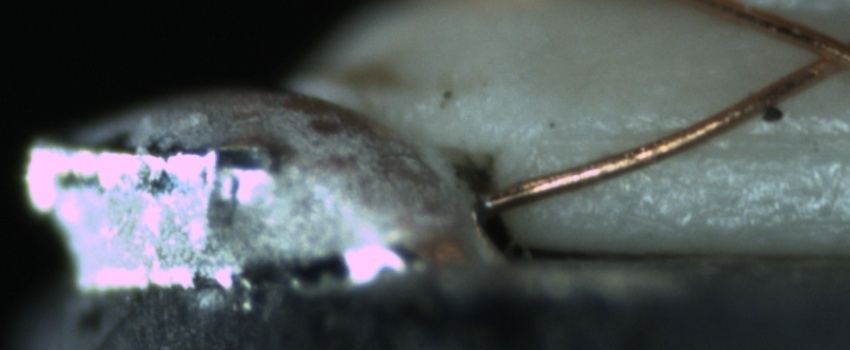CL: (793, 26, 850, 86)
DL: (560, 107, 848, 175)
